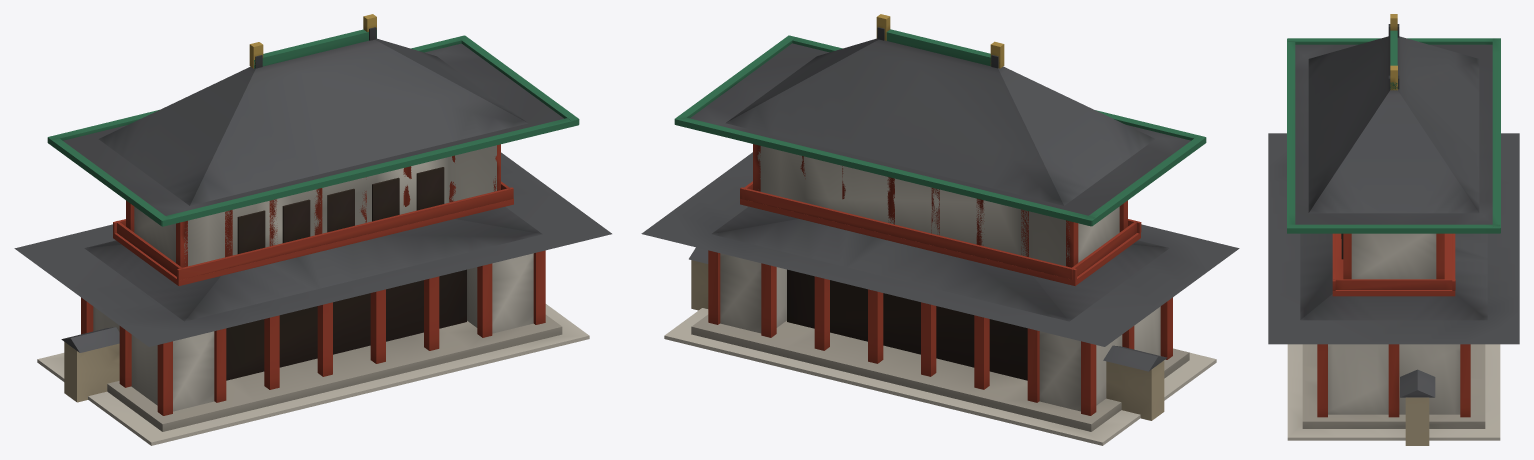
The model's file is suzakumon.glb.
3 views of the same model, side by side, from view 1: azimuth 30°, elevation 25°; view 2: azimuth 150°, elevation 25°; view 3: azimuth 270°, elevation 25° (orthographic). The views are drawn at different scales.
Visible parts, largest first — view 1: p2_roofs, p1_halls, p0_grounds; view 2: p2_roofs, p1_halls, p0_grounds; view 3: p2_roofs, p1_halls, p0_grounds.
Boxes of the visible parts, box(x1,y1,x2,y2) form: p2_roofs: box(14, 14, 611, 346); p1_halls: box(81, 144, 562, 431); p0_grounds: box(37, 304, 589, 445); p2_roofs: box(641, 14, 1239, 346); p1_halls: box(691, 144, 1189, 431); p0_grounds: box(664, 247, 1216, 445); p2_roofs: box(1268, 14, 1519, 344); p1_halls: box(1302, 233, 1485, 428); p0_grounds: box(1287, 344, 1500, 445).
Bounding box in the file's own units: 42.32 × 27.96 × 21.32.
